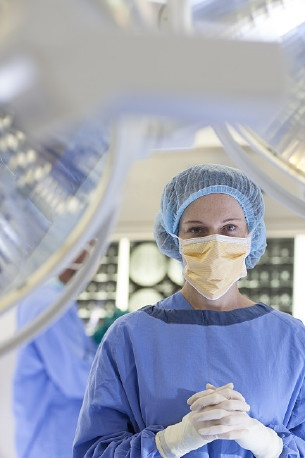Mask: (175, 216, 252, 293)
